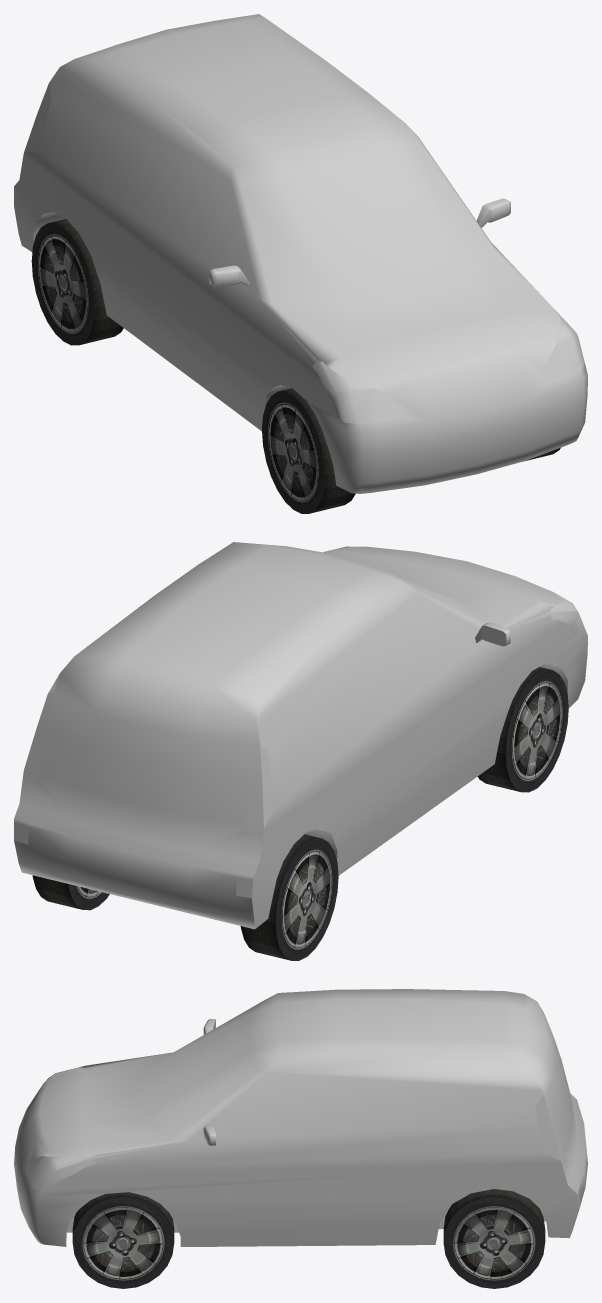
Rendered from Soul.fbx.
3 renders of one model, top to bottom at view 1: azimuth 30°, elevation 25°; view 2: azimuth 150°, elevation 25°; view 3: azimuth 270°, elevation 25°, orthographic. The views are drawn at different scales.
Parts seen in each view (by area): view 1: Car, BR, FR, Car ON; view 2: Car, BR, FR, Car ON, BL; view 3: Car, BL, FL, Car ON.
Part boxes in pixels (x1=…): Car: x1=14, y1=14, x2=587, y2=493; BR: x1=31, y1=219, x2=123, y2=345; FR: x1=262, y1=388, x2=355, y2=513; Car ON: x1=24, y1=83, x2=584, y2=423; Car: x1=14, y1=542, x2=587, y2=929; BR: x1=240, y1=834, x2=338, y2=960; FR: x1=477, y1=667, x2=568, y2=792; Car ON: x1=14, y1=546, x2=584, y2=898; BL: x1=32, y1=875, x2=109, y2=910; Car: x1=14, y1=989, x2=587, y2=1246; BL: x1=443, y1=1189, x2=545, y2=1288; FL: x1=72, y1=1192, x2=174, y2=1288; Car ON: x1=26, y1=1010, x2=580, y2=1209.
Bounding box in the file's own units: 1.88 × 1.66 × 3.88.
